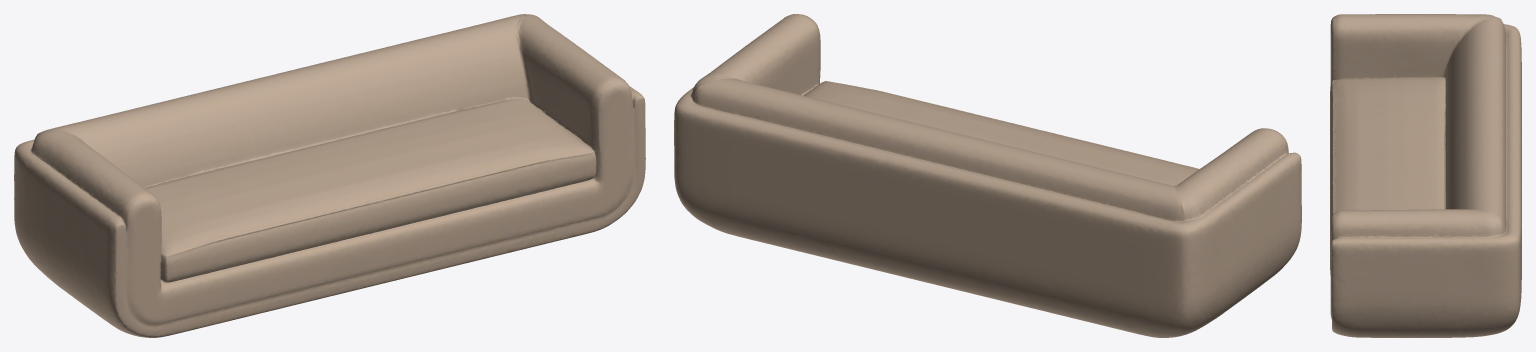
The model's file is 23_现代底座沙发.glb.
3 renders of one model, left to right at view 1: azimuth 30°, elevation 25°; view 2: azimuth 150°, elevation 25°; view 3: azimuth 270°, elevation 25°, orthographic. The views are drawn at different scales.
Visible parts, largest first — view 1: world; view 2: world; view 3: world.
Boxes of the visible parts, <box> form: world: <box>14,14,645,337</box>; world: <box>674,14,1301,337</box>; world: <box>1330,14,1521,337</box>.
Bounding box in the file's own units: 1 × 0.2686 × 0.3637.
Materials: 1 (1 with a texture image).
